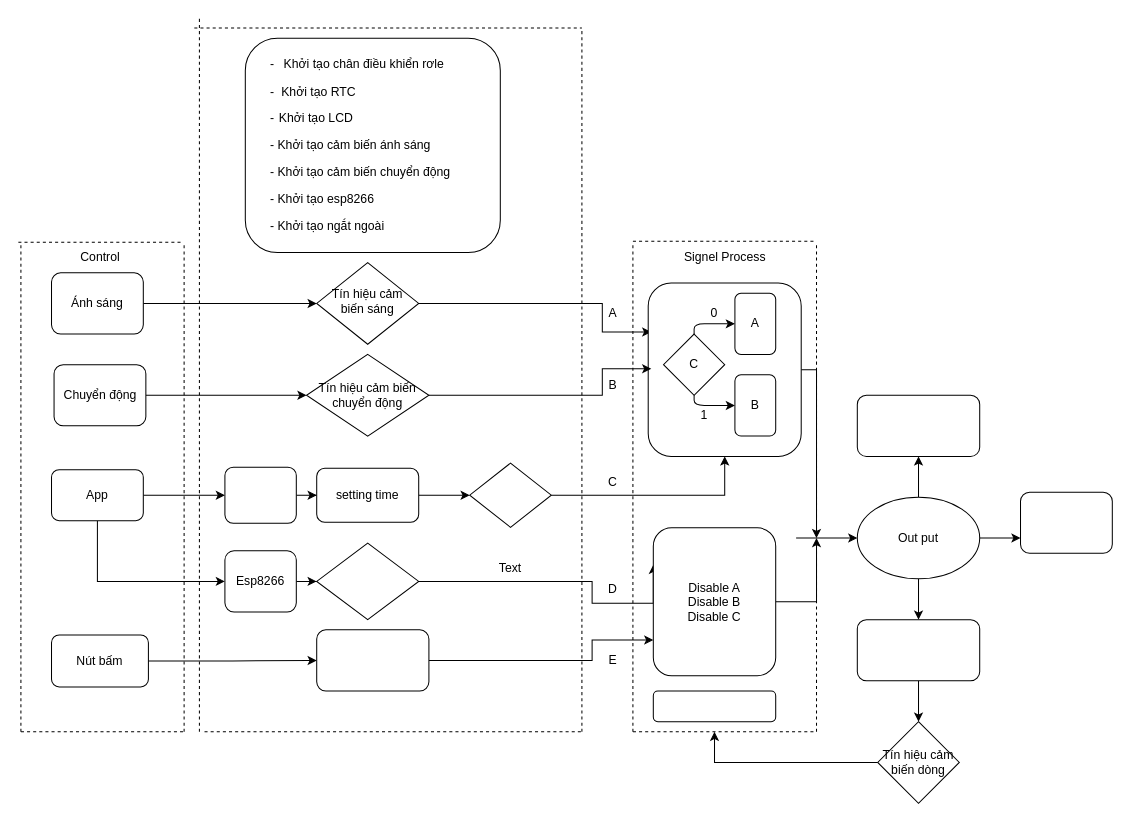
Image size: 1130x821. Some labels were removed from this diagram. The centre of each missing label's shape, as x and y in pixels:
Cảm biến dòng: the point at 918,650
Flash memory: the point at 714,706
LCD: the point at 918,425
Ro -le: the point at 1065,522
RTC: the point at 510,494
Timer: the point at 260,494
Tín hiệu control: the point at 367,581
Đảo trạng thái output: the point at 372,660
